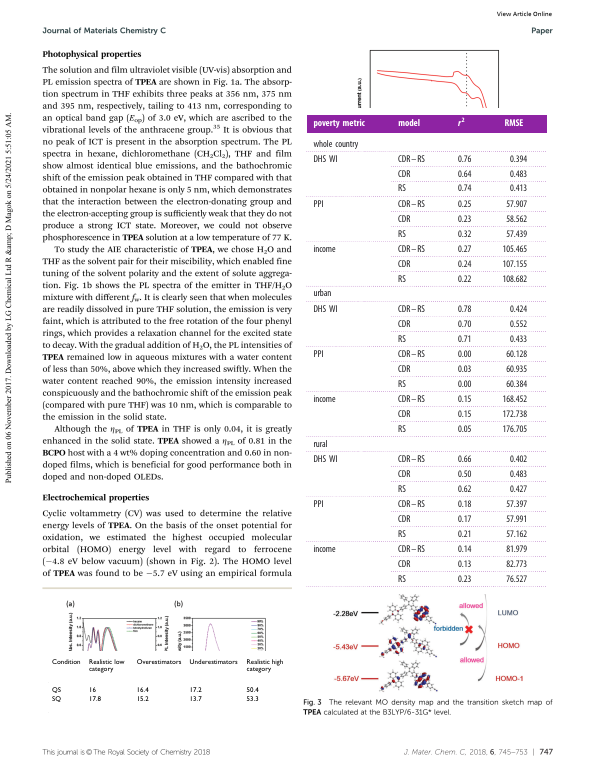borderless: (305, 113, 548, 588), (46, 656, 286, 714)
cell: (245, 658, 284, 674), (87, 658, 125, 674), (313, 119, 366, 130), (313, 139, 359, 150), (188, 658, 238, 667), (135, 658, 182, 667), (397, 154, 426, 165), (397, 199, 426, 210), (397, 244, 426, 255), (397, 304, 426, 315), (397, 349, 426, 360), (397, 394, 426, 405), (397, 454, 426, 465), (397, 499, 426, 510), (397, 544, 426, 555), (313, 154, 339, 165), (502, 244, 528, 255), (502, 259, 528, 270), (502, 274, 528, 285), (313, 304, 339, 315), (502, 394, 528, 405), (502, 409, 528, 420), (502, 424, 528, 435), (313, 454, 339, 465), (51, 658, 81, 667), (397, 119, 421, 130), (313, 244, 337, 255), (313, 394, 337, 405), (313, 544, 337, 555), (505, 199, 528, 210), (505, 214, 528, 225), (505, 229, 528, 240), (505, 349, 528, 360), (505, 364, 528, 375), (505, 379, 528, 390), (505, 499, 528, 510), (505, 514, 528, 525), (505, 529, 528, 540), (505, 544, 528, 555), (505, 559, 528, 570), (505, 574, 528, 585), (504, 119, 524, 130), (509, 154, 528, 165), (509, 169, 528, 180), (509, 184, 528, 195), (313, 289, 332, 300), (509, 304, 528, 315), (509, 319, 528, 330), (509, 334, 528, 345), (509, 454, 528, 465), (509, 469, 528, 480), (509, 484, 528, 495), (313, 439, 329, 450), (457, 154, 472, 165), (457, 169, 472, 180), (457, 184, 472, 195), (457, 199, 472, 210), (457, 214, 472, 225), (457, 229, 472, 240), (457, 244, 472, 255), (457, 259, 472, 270), (457, 274, 472, 285), (457, 304, 472, 315), (457, 319, 472, 330), (457, 334, 472, 345), (457, 349, 472, 360), (457, 364, 472, 375), (457, 379, 472, 390), (457, 394, 472, 405), (457, 409, 472, 420), (457, 424, 472, 435), (457, 454, 472, 465), (457, 469, 472, 480), (457, 484, 472, 495), (457, 499, 472, 510), (457, 514, 472, 525), (457, 529, 472, 540), (457, 544, 472, 555), (457, 559, 472, 570), (457, 574, 472, 585), (397, 169, 411, 180), (397, 214, 411, 225), (397, 259, 411, 270), (397, 319, 411, 330), (397, 364, 411, 375), (397, 409, 411, 420), (397, 469, 411, 480), (397, 514, 411, 525), (397, 559, 411, 570), (135, 686, 149, 695), (188, 686, 202, 695), (245, 686, 259, 695), (87, 695, 101, 704), (135, 695, 149, 704), (188, 695, 202, 704), (245, 695, 259, 704), (313, 199, 324, 210), (313, 349, 324, 360), (313, 499, 324, 510), (397, 184, 407, 195), (397, 229, 407, 240), (397, 274, 407, 285), (397, 334, 407, 345), (397, 379, 407, 390), (397, 424, 407, 435), (397, 484, 407, 495), (397, 529, 407, 540), (397, 574, 407, 585), (457, 116, 466, 128), (51, 686, 61, 695), (51, 695, 61, 704), (87, 686, 96, 695)
